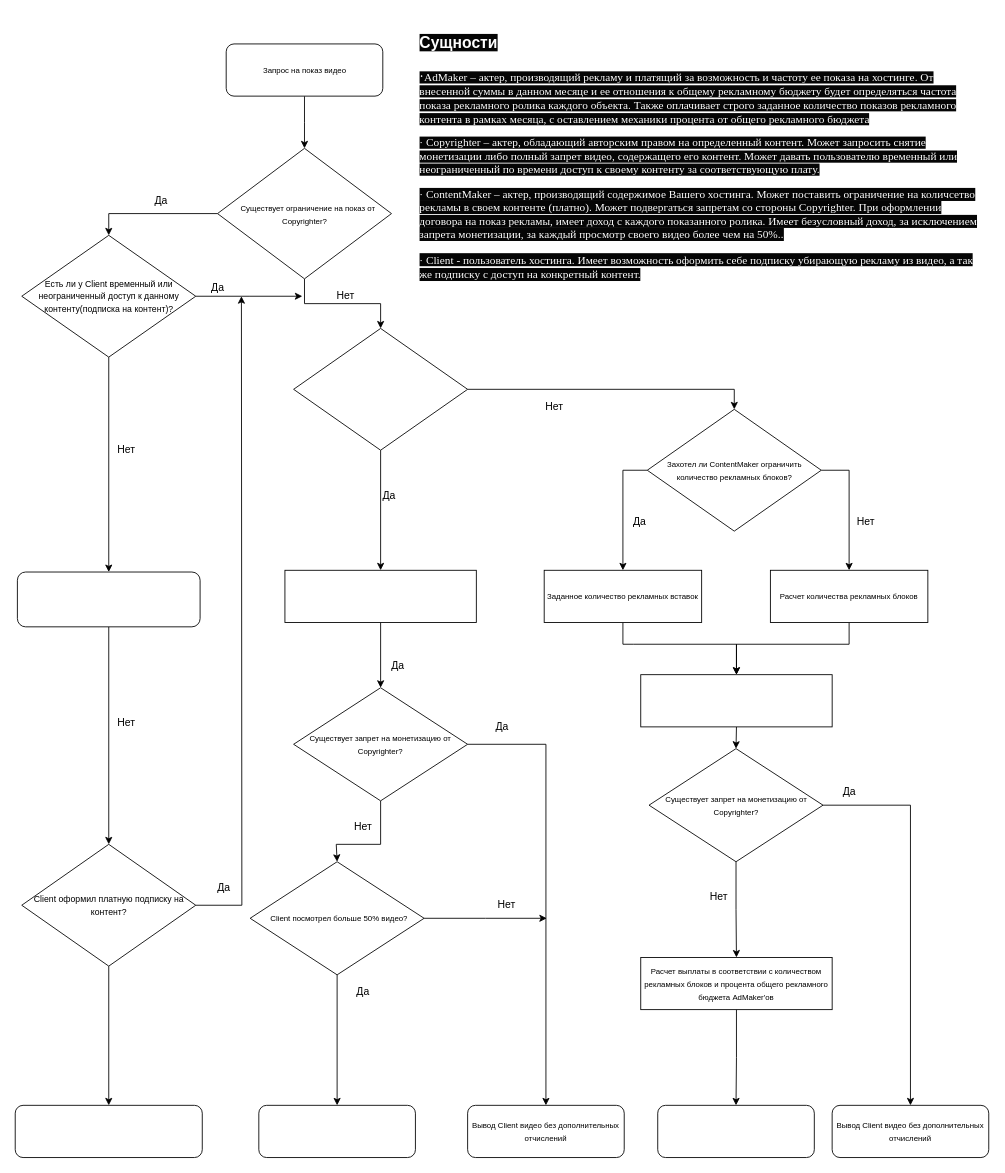
Some shapes in this 1005 by 1173 pixel diagram are drawn without their labels. Here are the shapes that lost their labels. From the top down, the centre of each, then its label:
the point at 380,389: Есть ли у Client премиальная подписка(убирающая рекламу)?
the point at 108,599: Предложить Сlient оформить подписку на контент
the point at 380,595: Показ видео Client без рекламы
the point at 736,700: Показ видео Client с рекламой
the point at 108,1131: Вывод Client сообщения о запрете видео
the point at 336,1131: Перечисление средств ContentMaker в зависимости от количества просмотров
the point at 735,1131: Перечисление средств ContentMaker в соответсвии с расчетами
